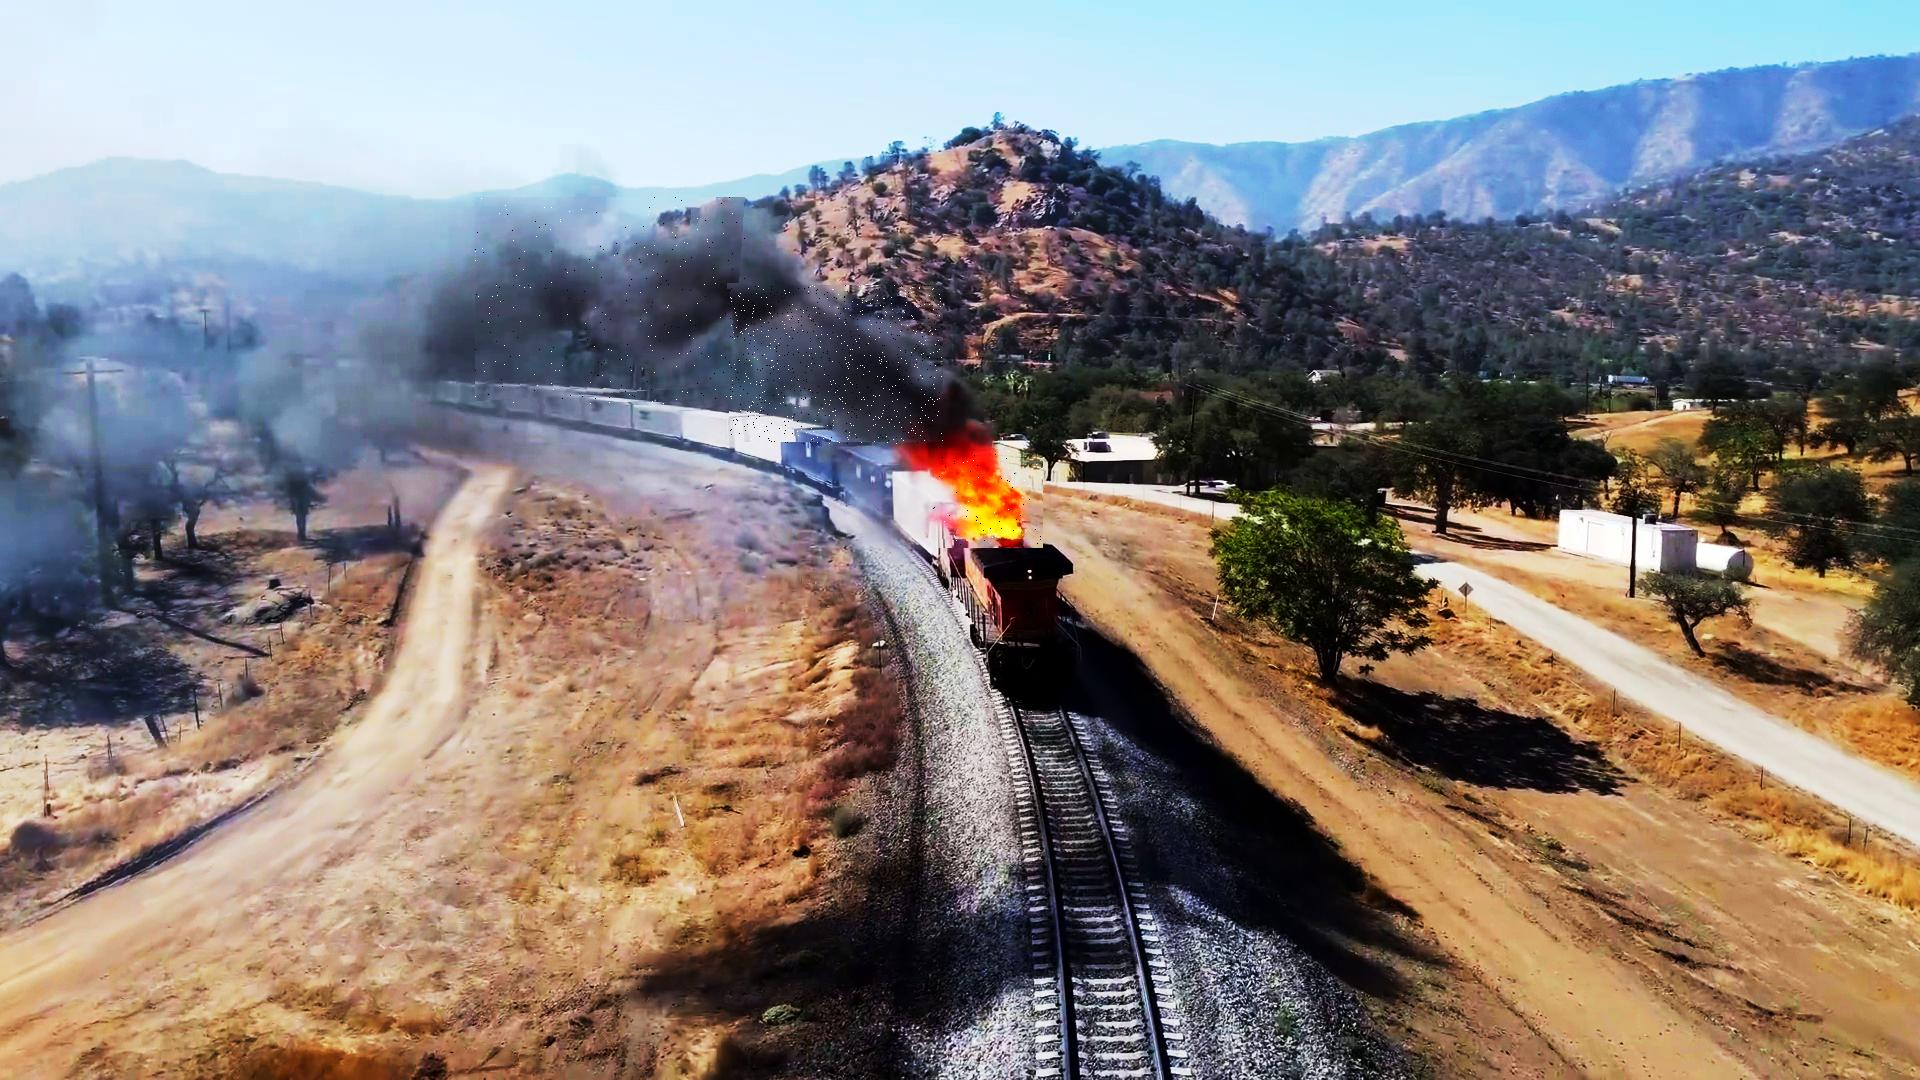fire: (934, 451, 1043, 549)
smoke: (476, 198, 749, 405), (729, 286, 943, 444)
